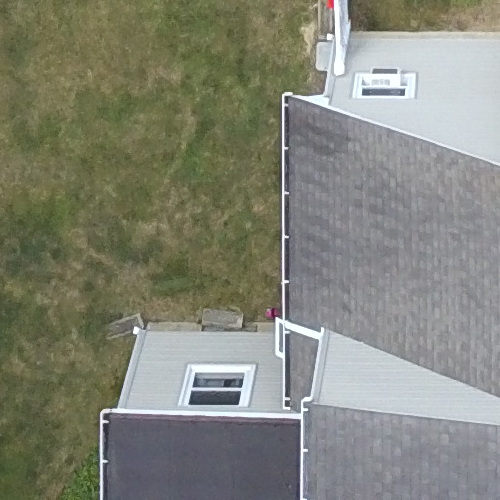container: (257, 304, 285, 322)
no larvae: (255, 302, 283, 320)
